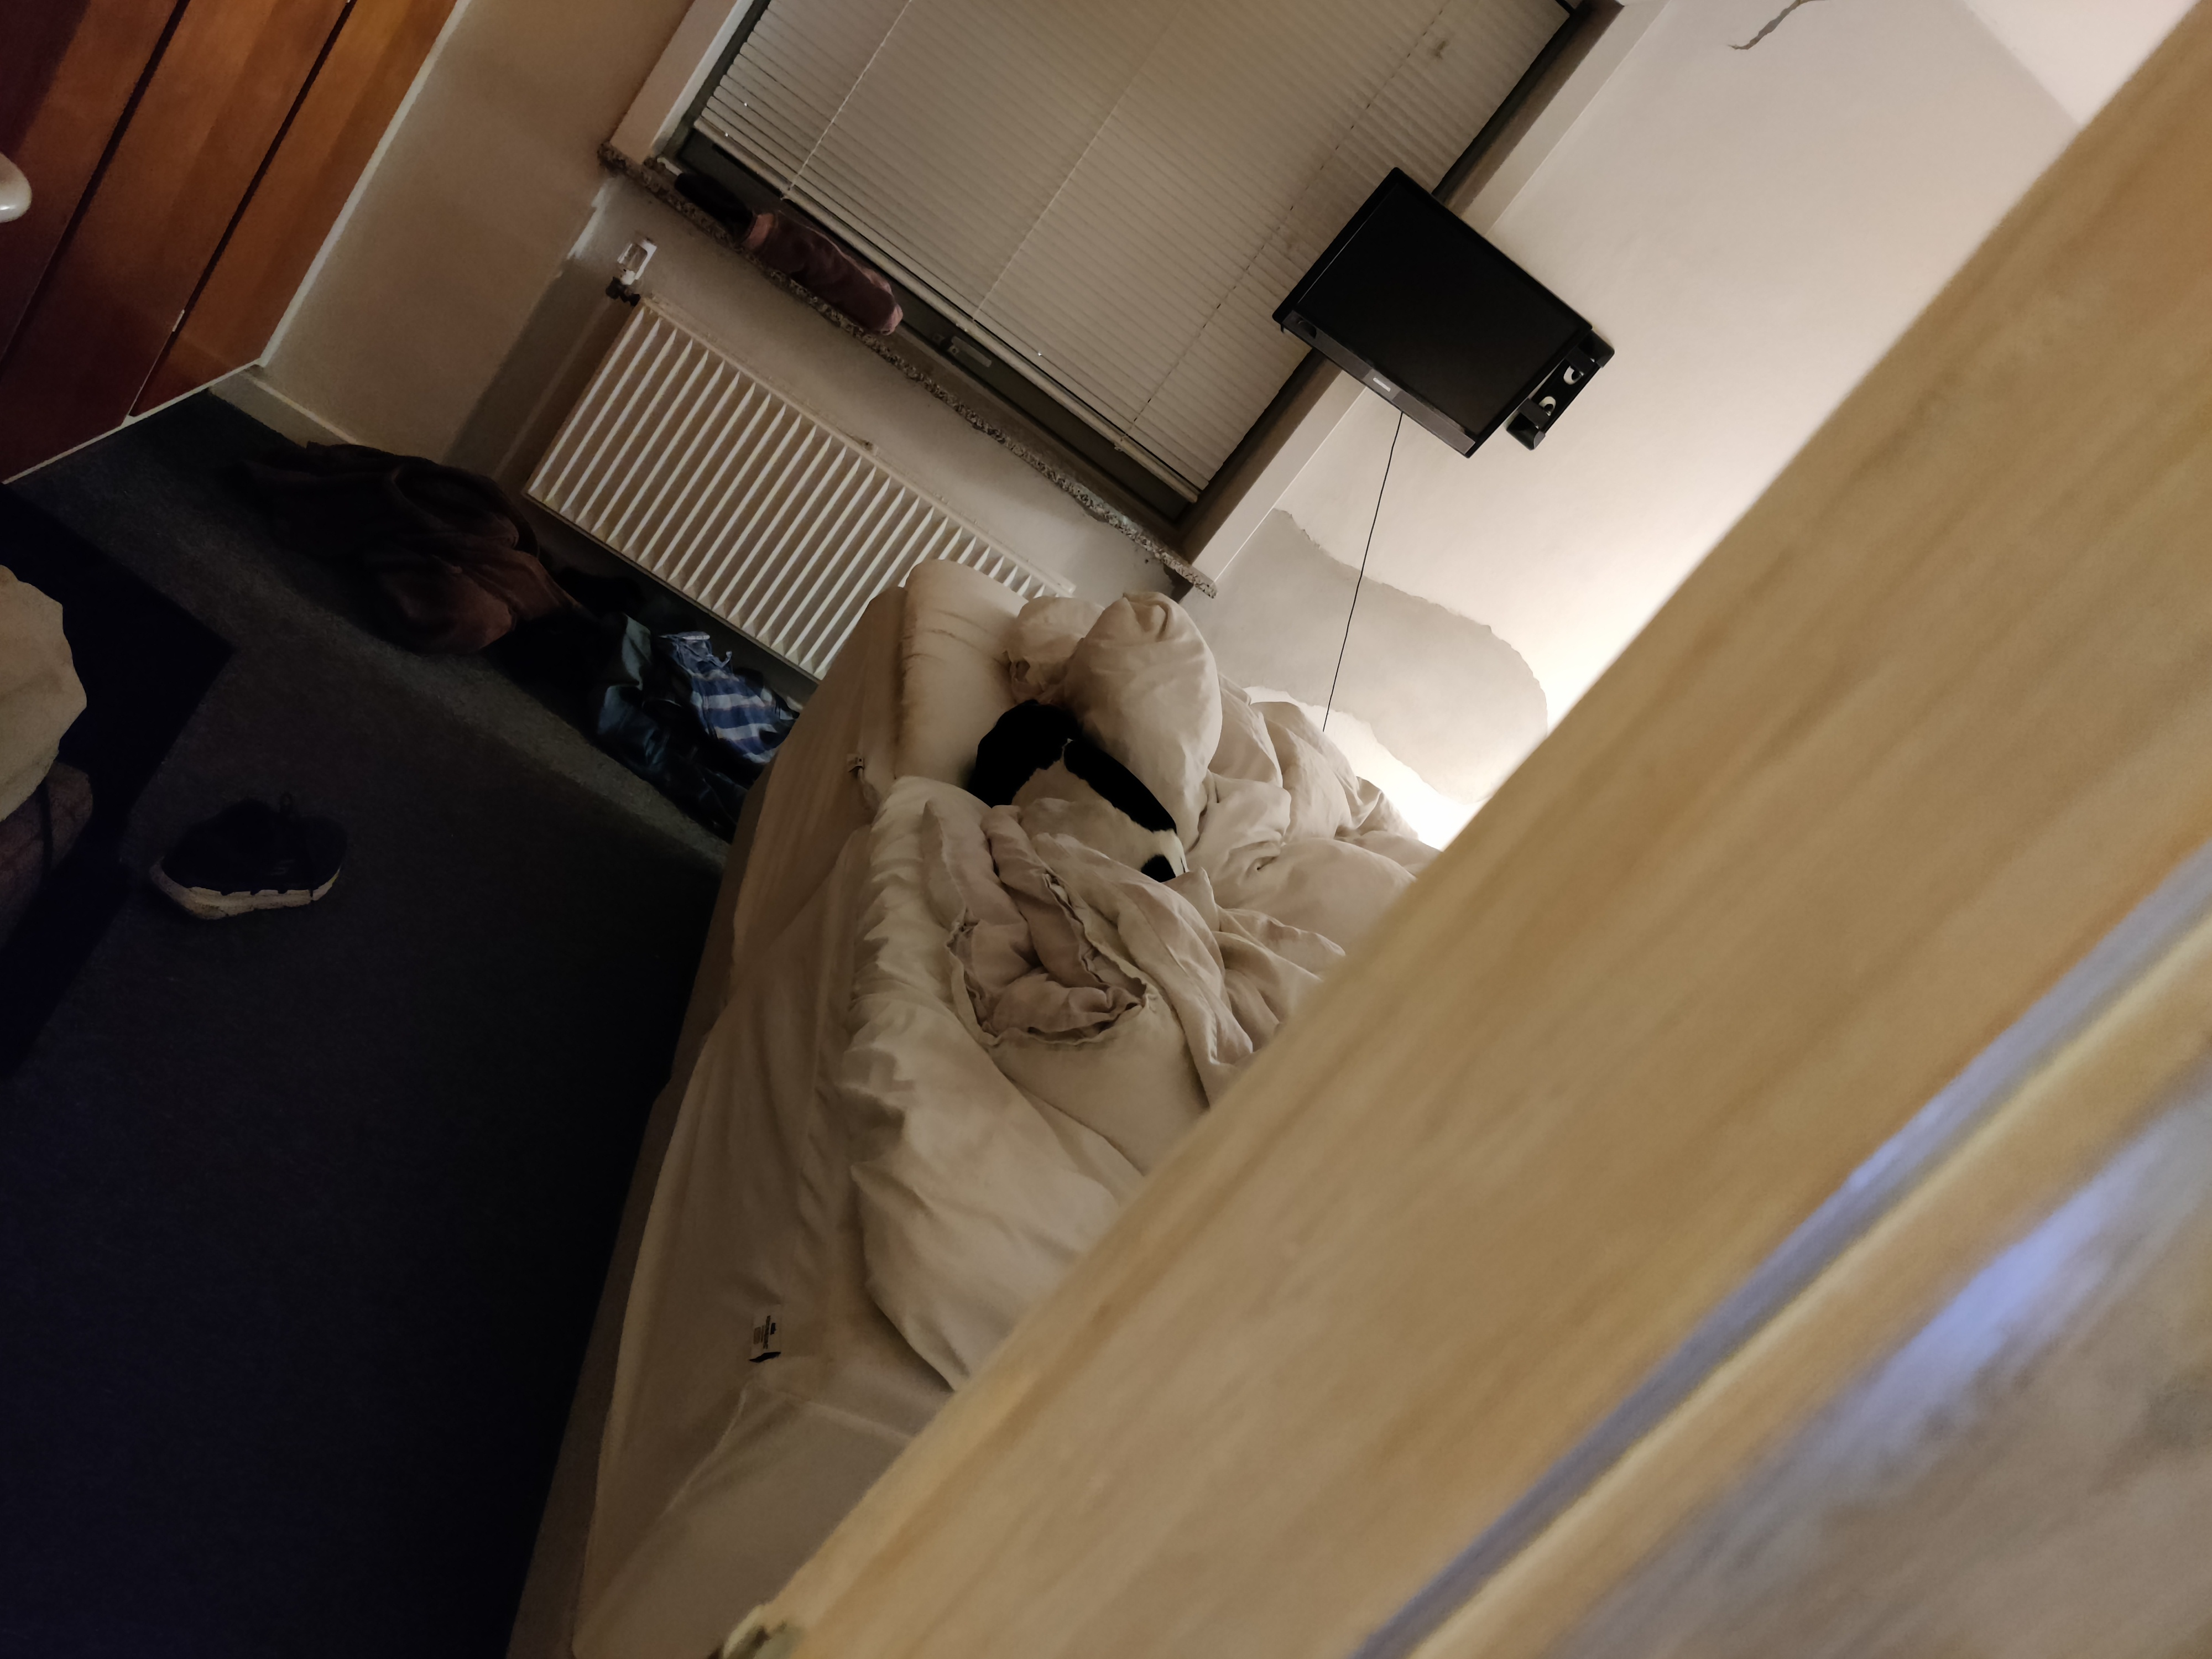Dog: (965, 692, 1191, 889)
